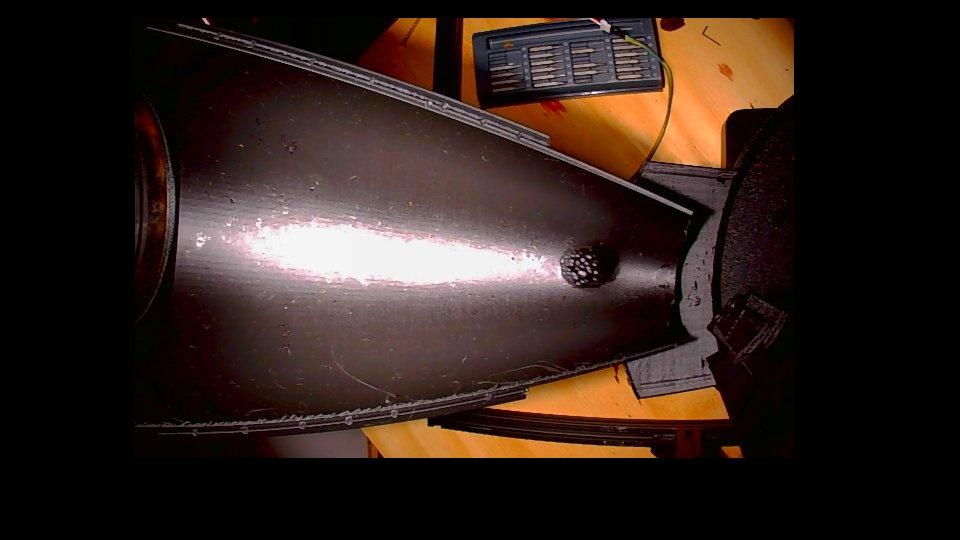berry: (561, 247, 599, 287)
